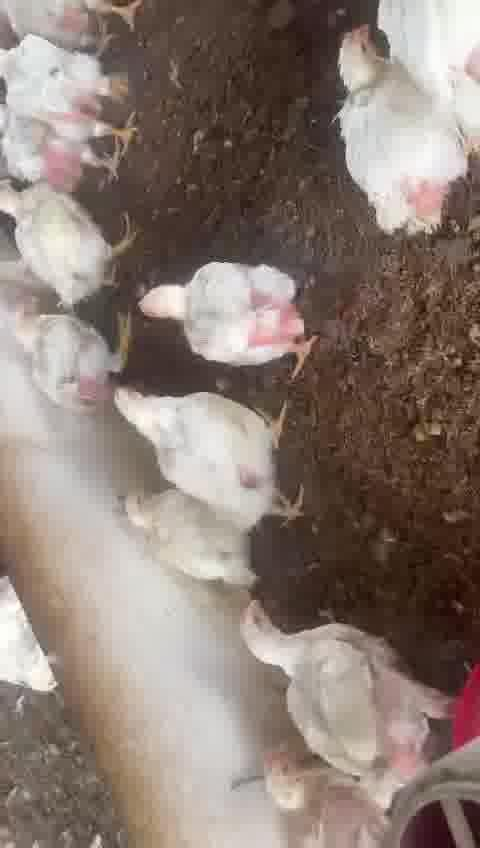AbNormal: (98, 477, 254, 595), (223, 737, 376, 848)
Normal: (240, 598, 438, 771), (331, 22, 469, 232), (112, 374, 309, 521), (138, 262, 317, 358), (0, 177, 144, 296), (6, 296, 137, 411), (0, 100, 139, 189), (0, 36, 160, 113)
